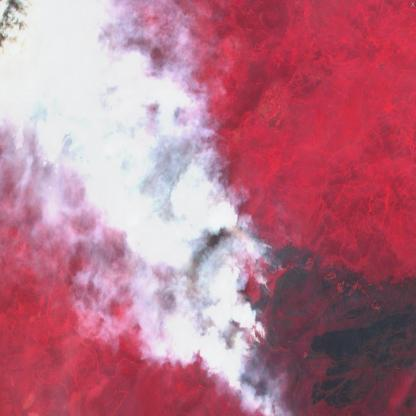fire: (136, 192, 293, 416), (8, 51, 130, 143)
